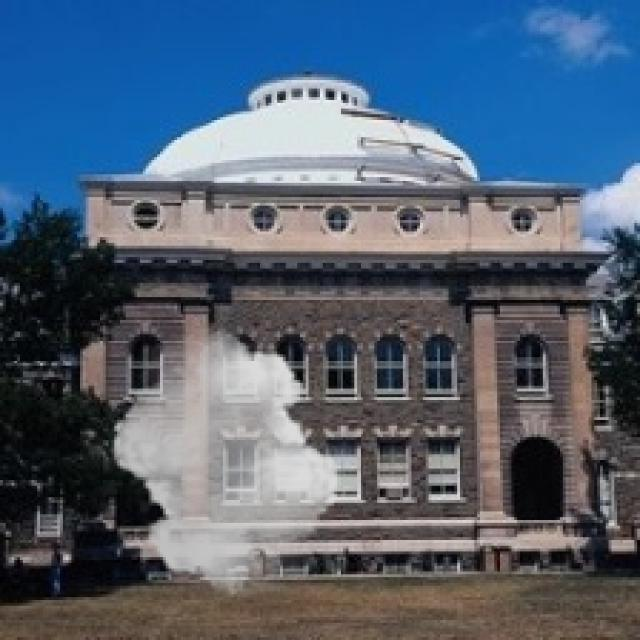Smoke: (102, 328, 348, 598)
